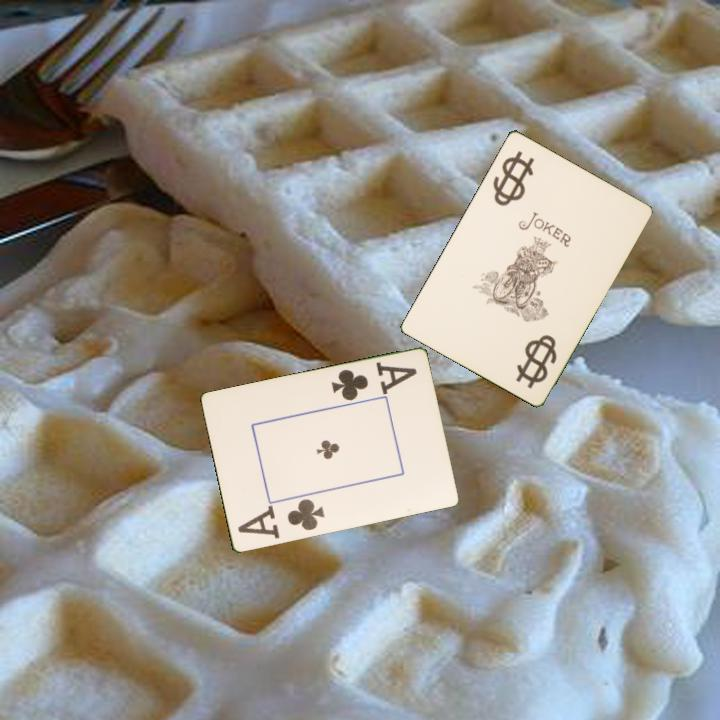Ac: (234, 496, 327, 542), (327, 358, 420, 404)
JK: (512, 330, 560, 391), (494, 156, 529, 205)
